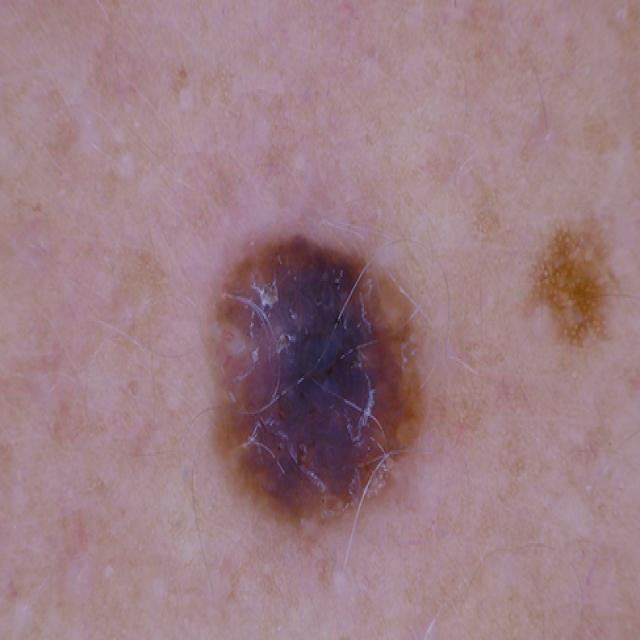Keratosis: (185, 176, 442, 564), (498, 190, 640, 395)
